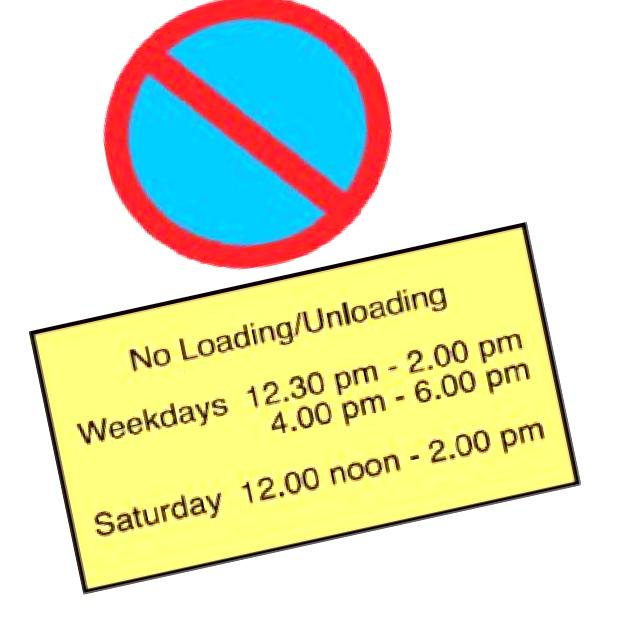forb_stopping: (107, 0, 392, 270)
